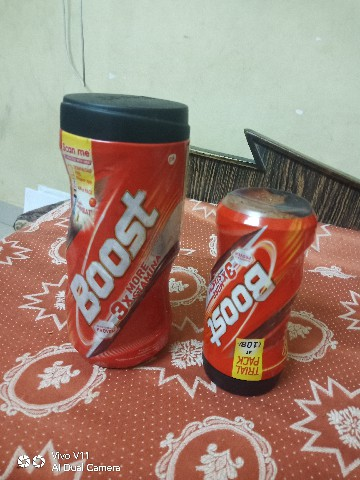boost big: (28, 90, 193, 382)
boost small: (198, 186, 325, 403)
